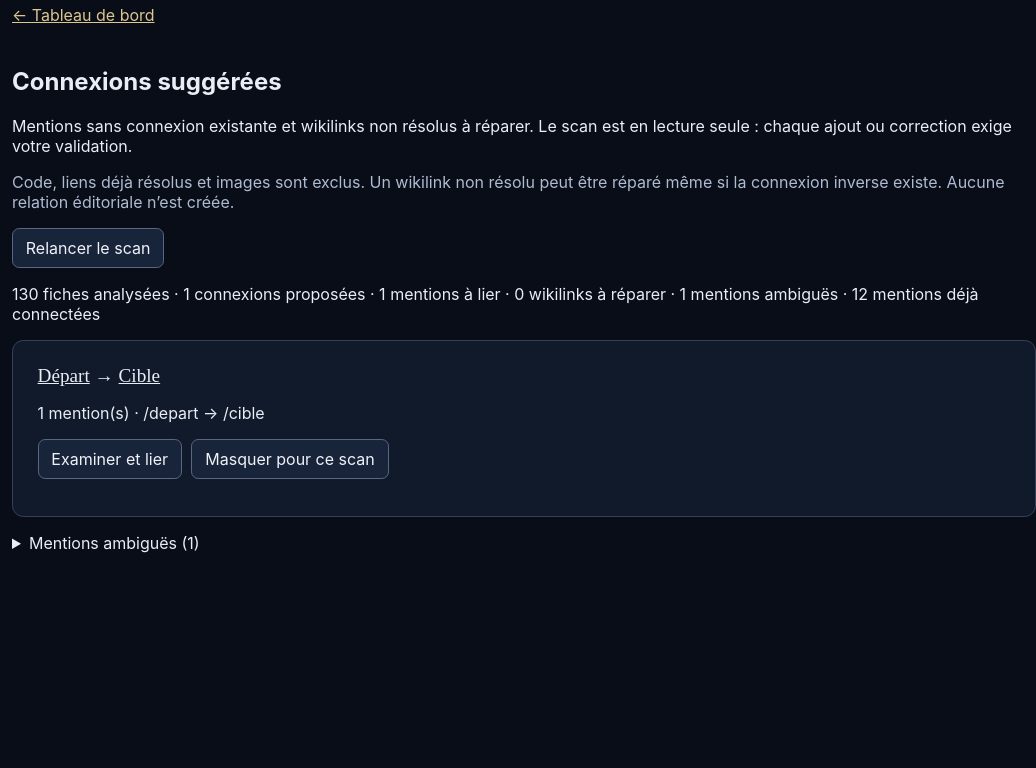
Test: scan des connexions › performs a read-only scan, explains counts and ambiguities, and requires preview plus human confirmation
expect the text "130 fiches analysées" is shown: met, box [12, 284, 1035, 324]
Click the button "Examiner et lier".
click(110, 459)  # box [38, 439, 182, 479]
(page scrolled)
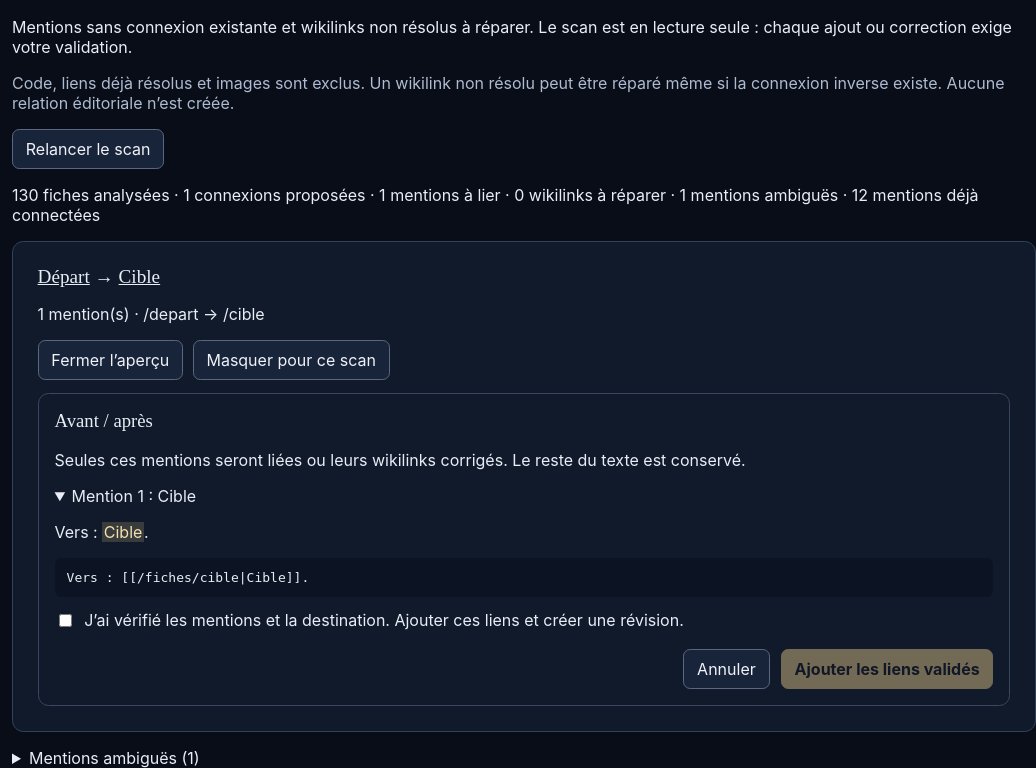
expect the button "Ajouter les liens validés" is disabled: met, box [781, 650, 993, 689]
expect the text "[ [/fiches/cible|Cible]]" is shown: met, box [121, 570, 301, 585]
Click the button "Annuler".
click(726, 669)  # box [683, 650, 770, 689]
(page scrolled)
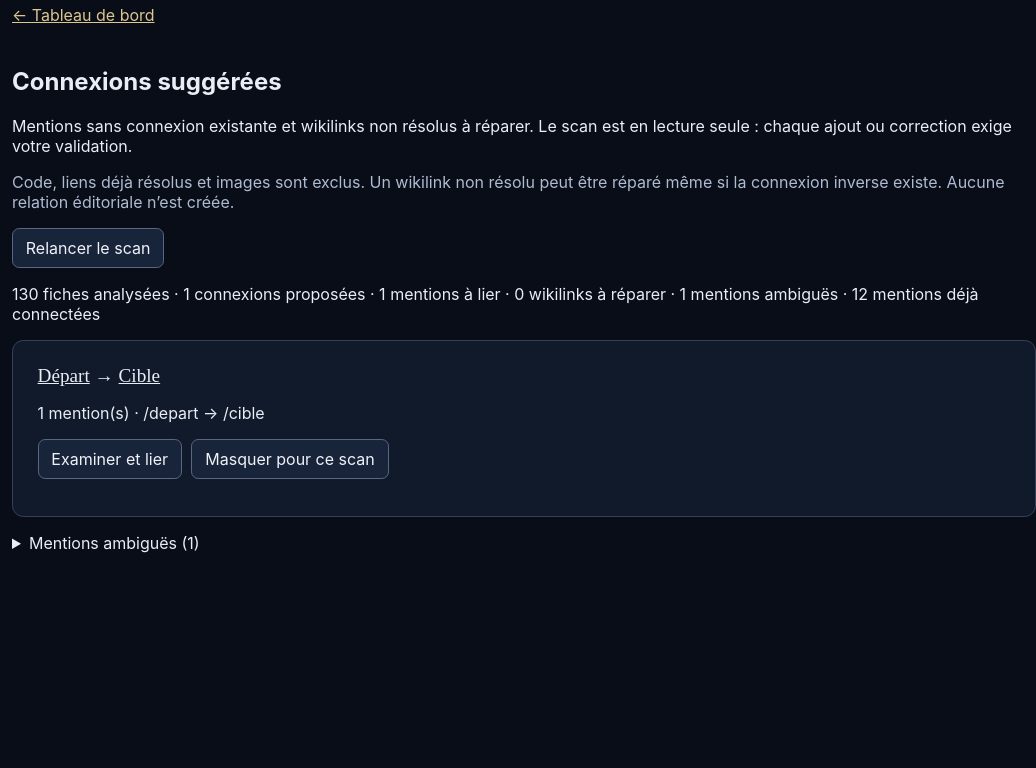
expect the checkbox is gone: met
